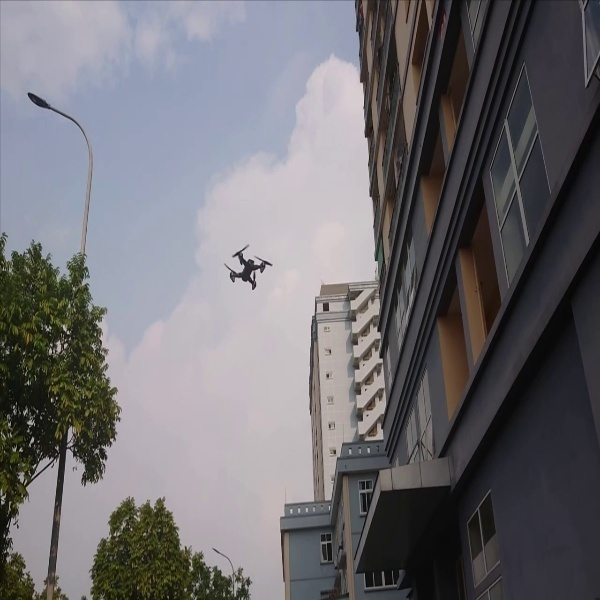drone: (221, 235, 275, 293)
